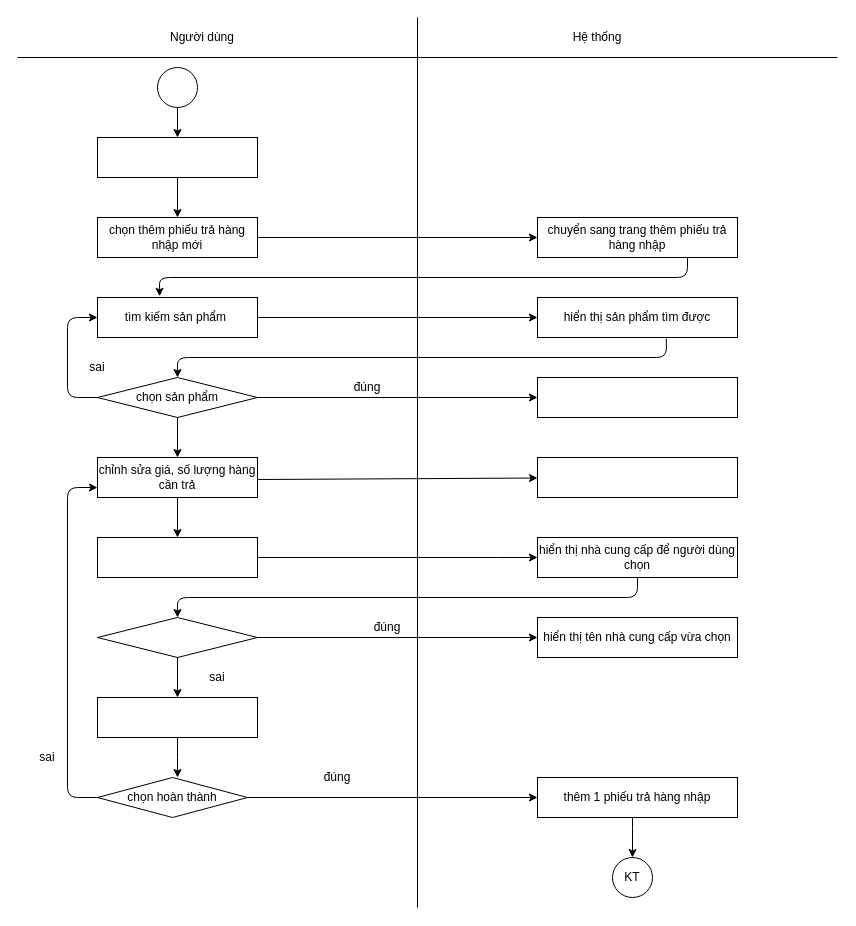
Some shapes in this 856 by 926 pixel diagram are drawn without their labels. Here are the shapes that lost their labels. From the top down, the centre of each, then its label:
(x=177, y=157): Nhu cầu trả hàng nhập
(x=637, y=397): hiển thị các sản phẩm đã chọn
(x=637, y=477): hiển thị tổng tiền hàng
(x=177, y=557): tìm nhà cung cấp
(x=177, y=637): chọn nhà cung cấp
(x=177, y=717): thêm nhà cung cấp
